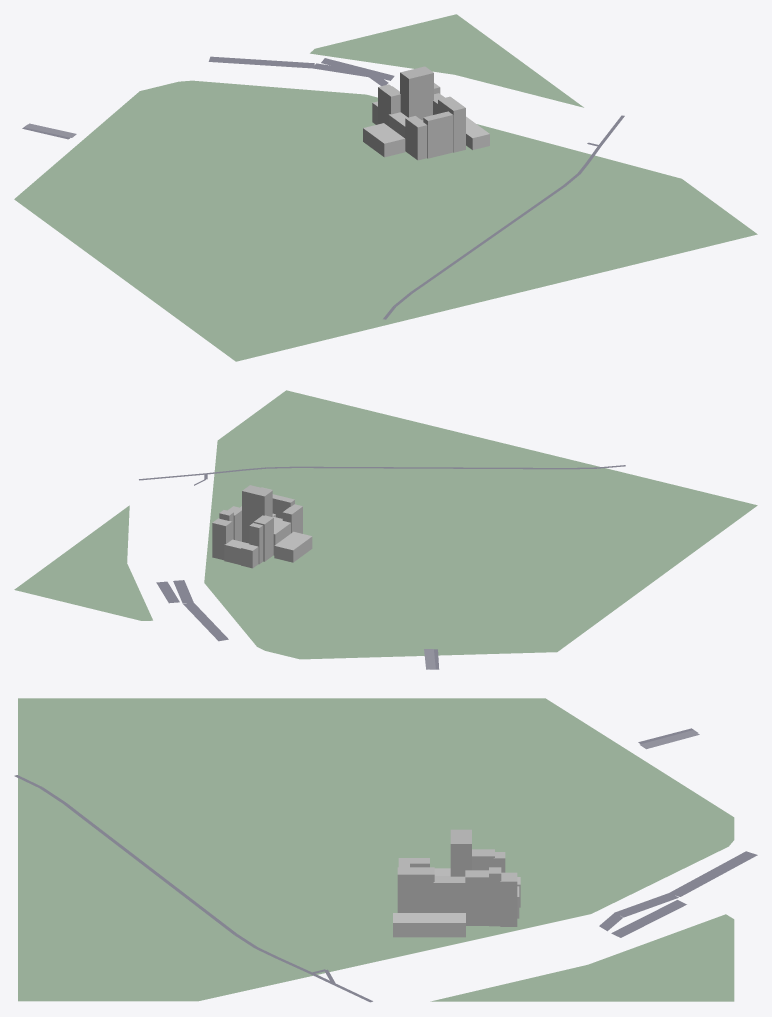
Rendered from 129_127_mid.glb.
3 renders of one model, top to bottom at view 1: azimuth 30°, elevation 25°; view 2: azimuth 150°, elevation 25°; view 3: azimuth 270°, elevation 25°, orthographic. The views are drawn at different scales.
Size of the model in its own units: 515 by 58.06 by 519.
